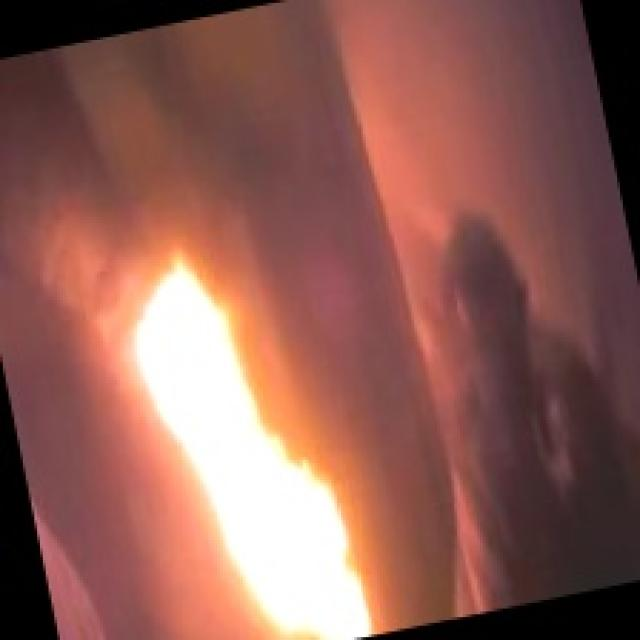fire: (136, 243, 364, 640)
